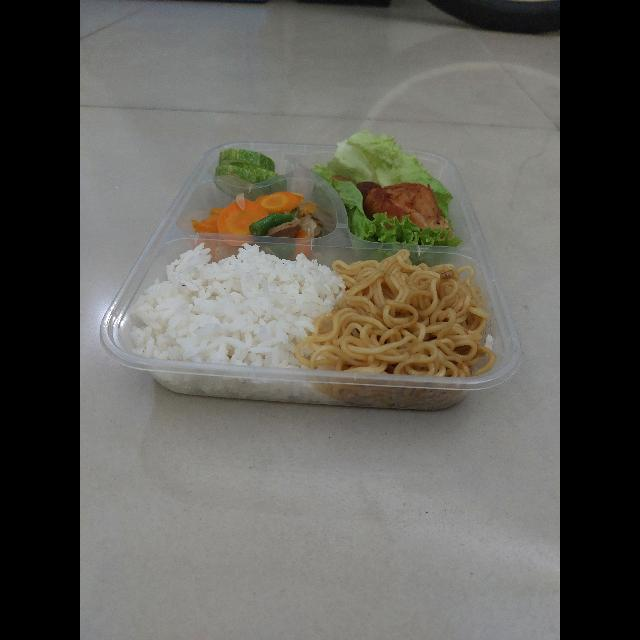bento: (95, 123, 533, 433)
